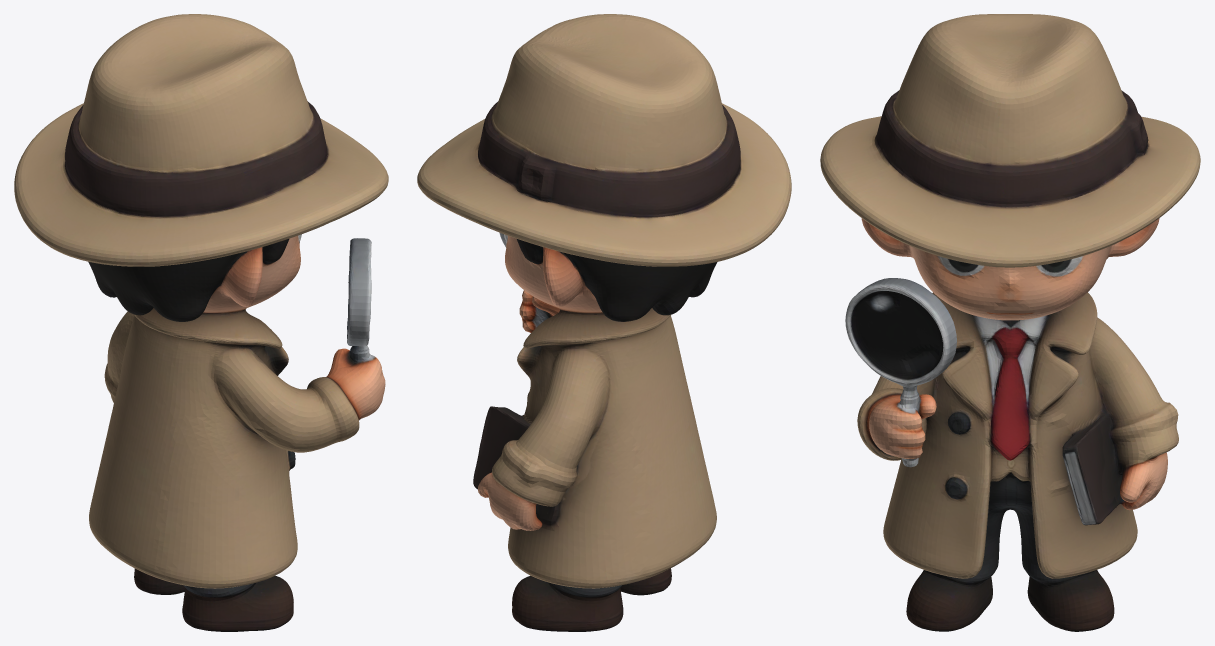
The model's file is male-04.glb.
3 views of the same model, side by side, from view 1: azimuth 30°, elevation 25°; view 2: azimuth 150°, elevation 25°; view 3: azimuth 270°, elevation 25° (orthographic). The views are drawn at different scales.
Visible parts, largest first — view 1: tripo_node_8216bb40-c0d9-4b8f-8691-63f96f4a23d7; view 2: tripo_node_8216bb40-c0d9-4b8f-8691-63f96f4a23d7; view 3: tripo_node_8216bb40-c0d9-4b8f-8691-63f96f4a23d7.
Boxes of the visible parts, x1,y1,x2,y2 form: tripo_node_8216bb40-c0d9-4b8f-8691-63f96f4a23d7: (14,14,388,631); tripo_node_8216bb40-c0d9-4b8f-8691-63f96f4a23d7: (417,14,791,631); tripo_node_8216bb40-c0d9-4b8f-8691-63f96f4a23d7: (820,14,1200,631).
Bounding box in the file's own units: 0.5984 × 0.9997 × 0.6013.
Materials: 1 (1 with a texture image).
